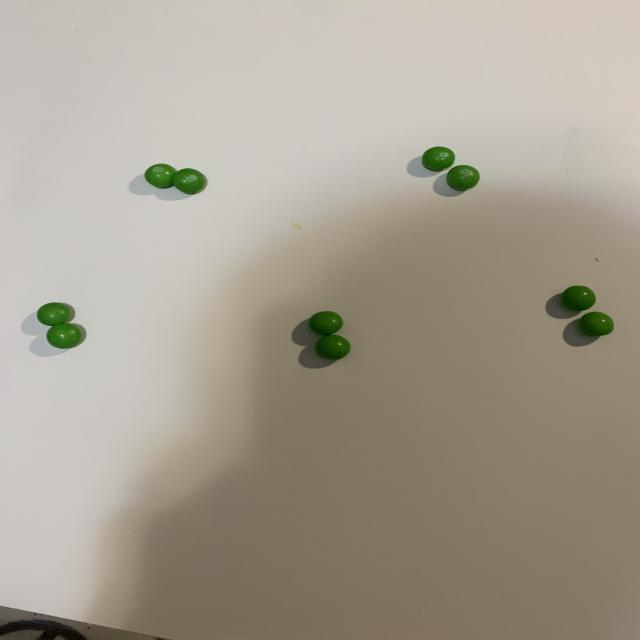smartie: (45, 323, 81, 349), (171, 168, 205, 194), (579, 312, 614, 337), (561, 286, 596, 311), (315, 335, 350, 360), (447, 164, 480, 190), (308, 311, 343, 335), (35, 302, 69, 326), (144, 163, 176, 188), (422, 146, 455, 170)
